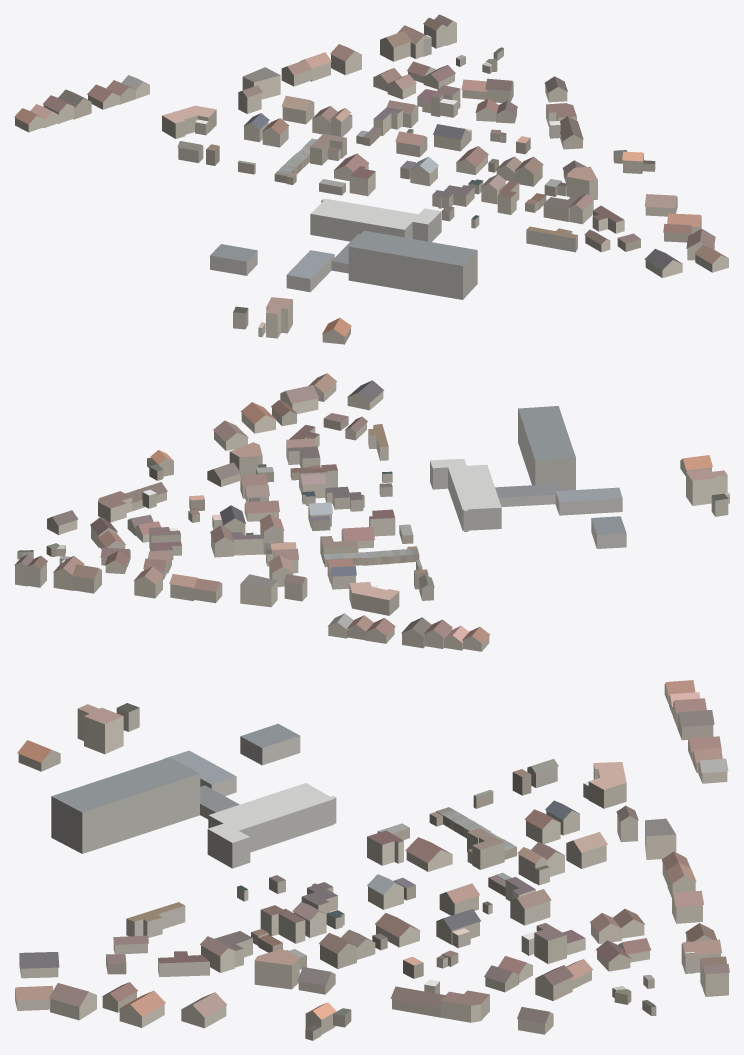
3 renders of one model, top to bottom at view 1: azimuth 30°, elevation 25°; view 2: azimuth 150°, elevation 25°; view 3: azimuth 270°, elevation 25°, orthographic. The views are drawn at different scales.
Parts seen in each view (by area): view 1: tuile; view 2: tuile; view 3: tuile.
Boxes of the visible parts, <box> form: tuile: <box>14,14,728,344</box>; tuile: <box>14,373,729,651</box>; tuile: <box>15,680,729,1040</box>.
Size of the model in its own units: 248 by 30.77 by 250.
